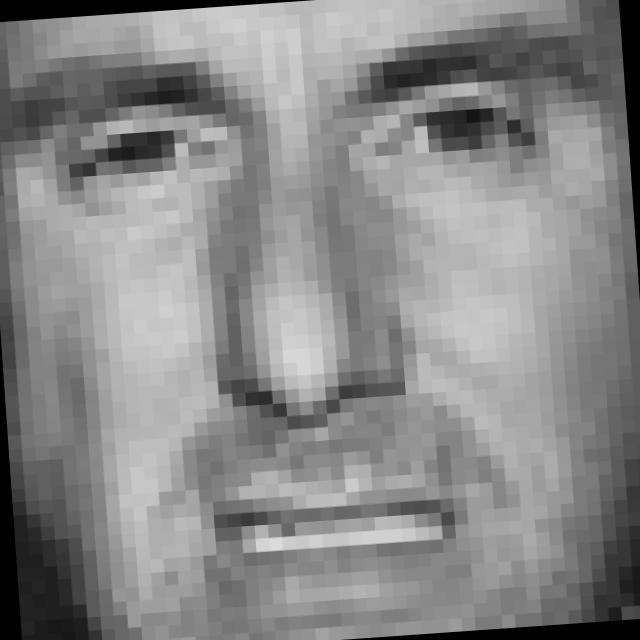disgust: (12, 20, 630, 640)
